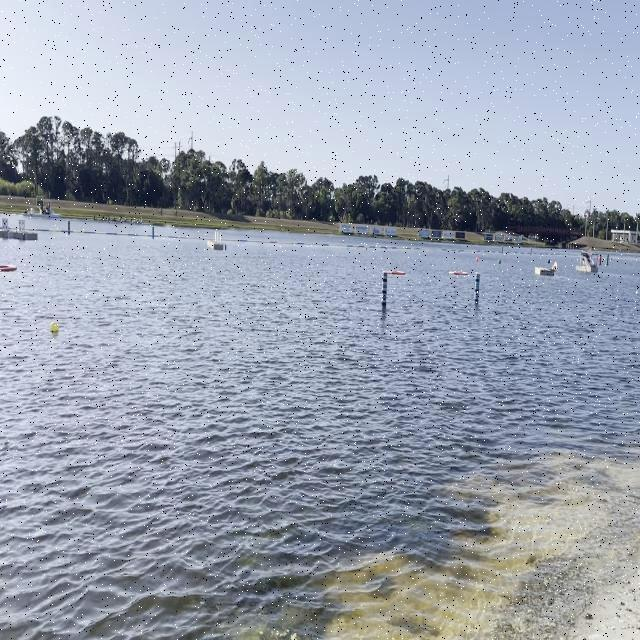buoy: (50, 320, 59, 332), (635, 290, 640, 296), (475, 256, 479, 262), (546, 260, 550, 264), (498, 260, 501, 264)
